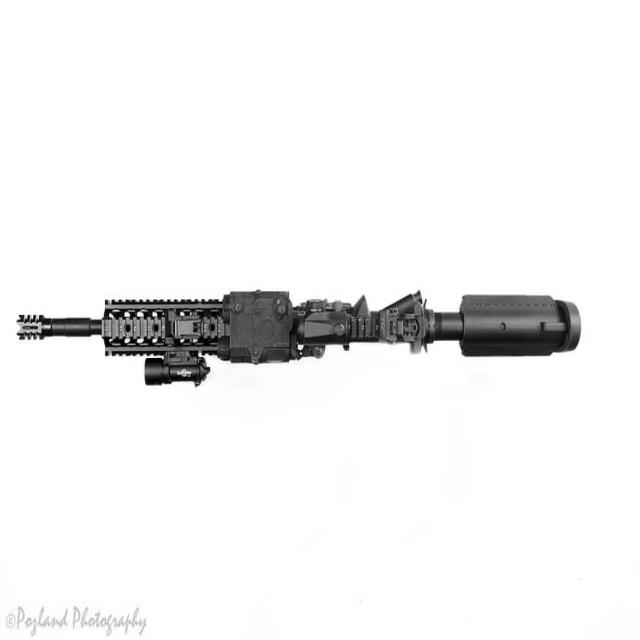gun: (15, 288, 578, 384)
